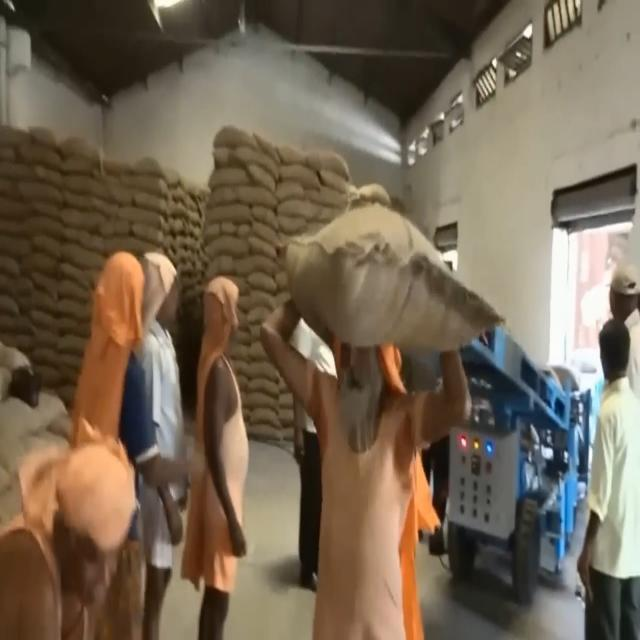gunny_bag: (282, 199, 504, 359), (298, 146, 353, 182), (202, 198, 252, 234), (13, 140, 66, 172), (54, 238, 104, 270), (60, 173, 112, 203), (272, 164, 324, 194), (48, 276, 94, 308), (232, 148, 280, 178), (123, 169, 172, 197), (16, 180, 64, 208), (245, 218, 285, 250), (116, 206, 163, 233), (245, 200, 283, 233), (250, 393, 286, 427), (208, 128, 262, 150), (61, 207, 104, 234), (208, 236, 252, 262), (24, 218, 70, 242), (238, 256, 286, 279), (242, 374, 284, 400), (278, 195, 318, 218), (206, 168, 257, 186), (22, 250, 56, 276), (240, 182, 270, 207), (207, 187, 251, 204), (206, 254, 243, 274), (130, 191, 163, 213), (32, 293, 54, 316), (33, 332, 61, 348), (32, 313, 54, 329)
